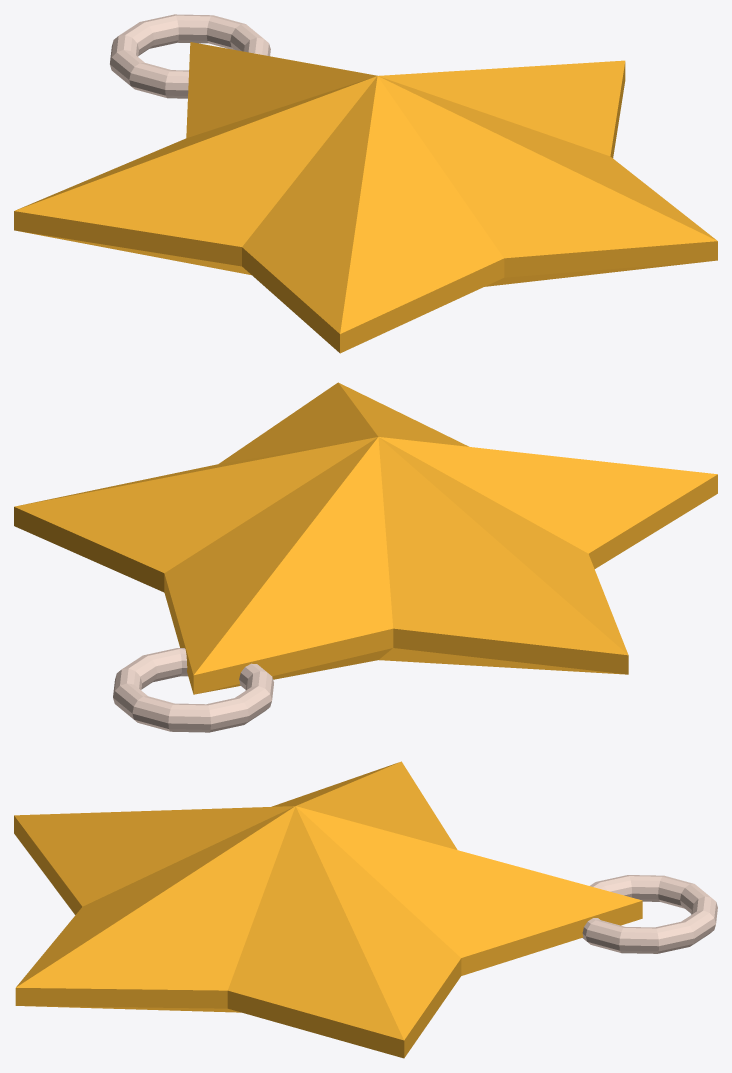
File: Ornament_star.fbx
3 renders of one model, top to bottom at view 1: azimuth 30°, elevation 25°; view 2: azimuth 150°, elevation 25°; view 3: azimuth 270°, elevation 25°, orthographic. The views are drawn at different scales.
Visible parts, largest first — view 1: Ornament_star; view 2: Ornament_star; view 3: Ornament_star.
Part boxes in pixels (bbox=[...]): Ornament_star: bbox=[14, 14, 717, 353]; Ornament_star: bbox=[14, 382, 717, 732]; Ornament_star: bbox=[14, 761, 717, 1058].
Size of the model in its own units: 46.66 by 16.23 by 49.75.
